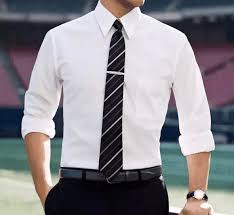F_shirt: (21, 1, 215, 172)
F_tie: (99, 28, 129, 178)
